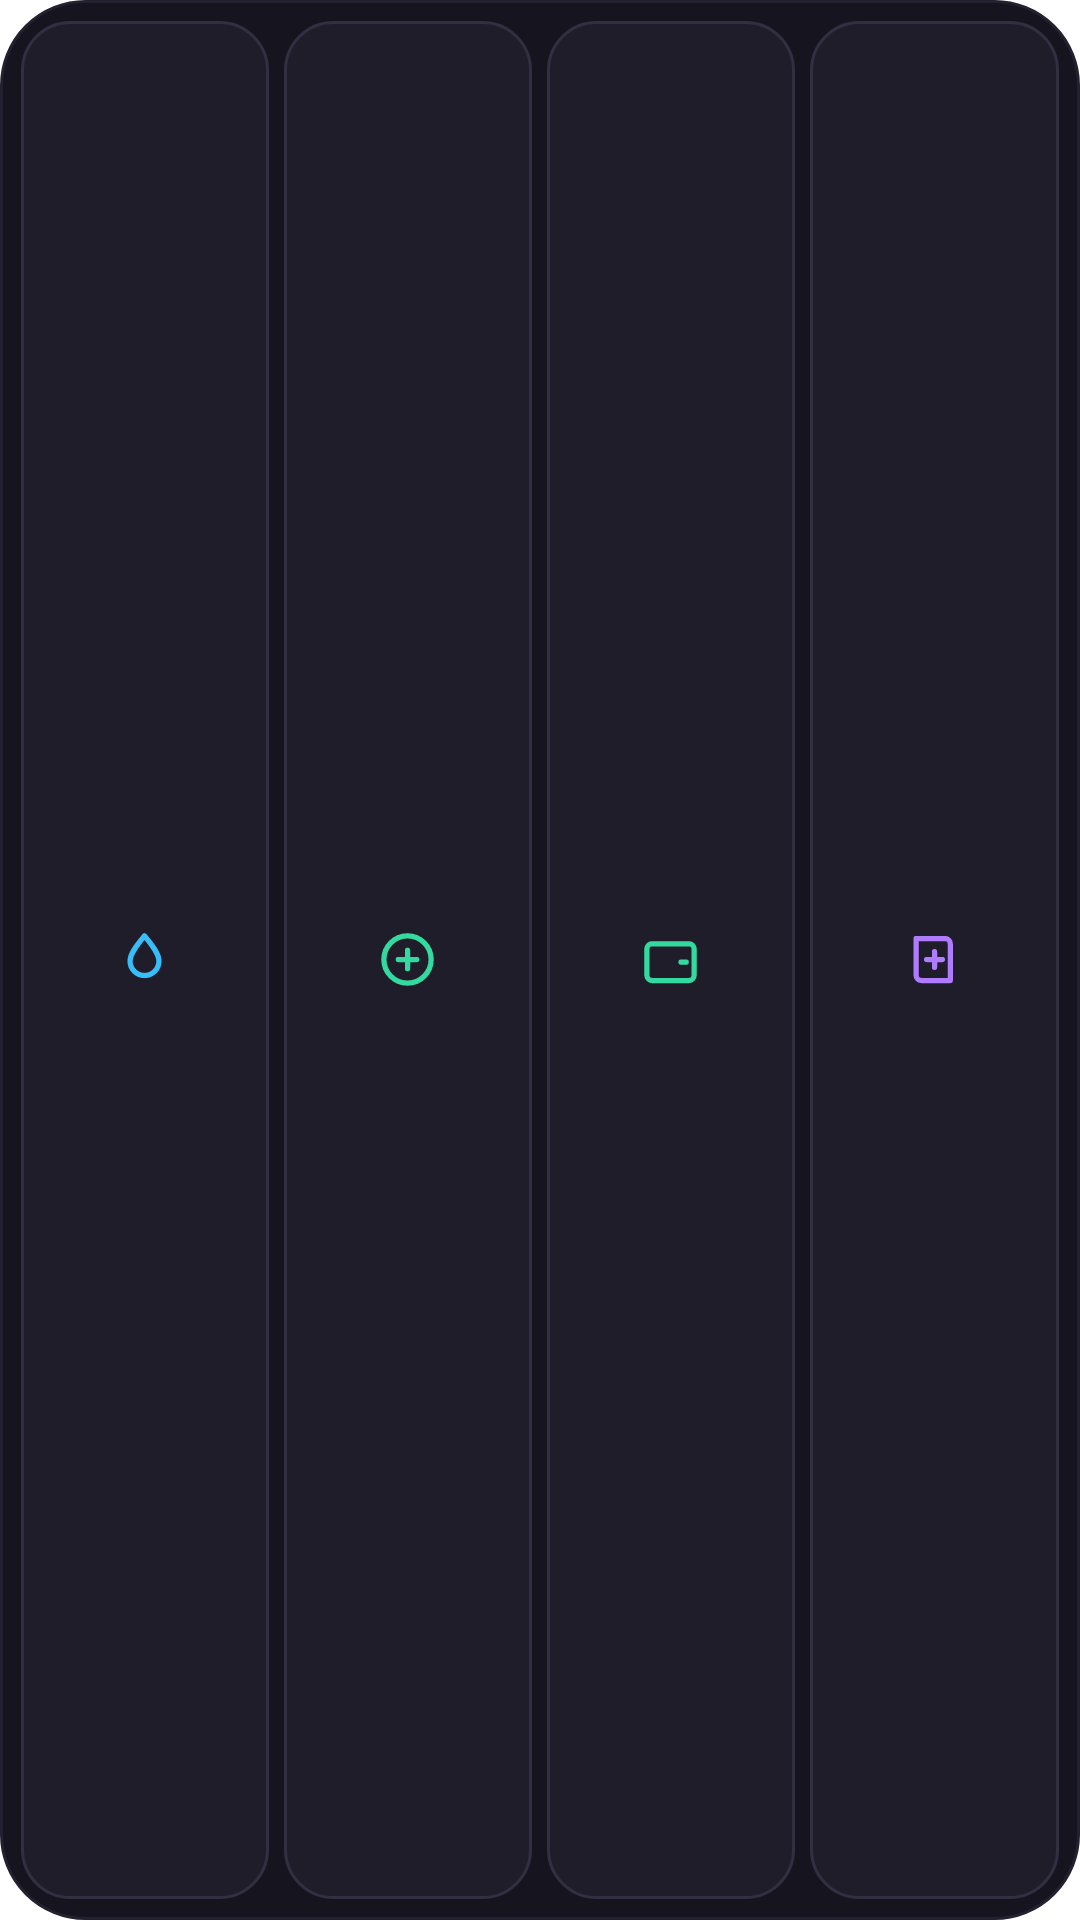

Named icons in this screenshot (1080 x 1920) and their bounding boxes, box(x1, y1, x2, y2):
drop: box(127, 933, 162, 979)
money: box(644, 941, 697, 984)
note: box(913, 936, 953, 984)
